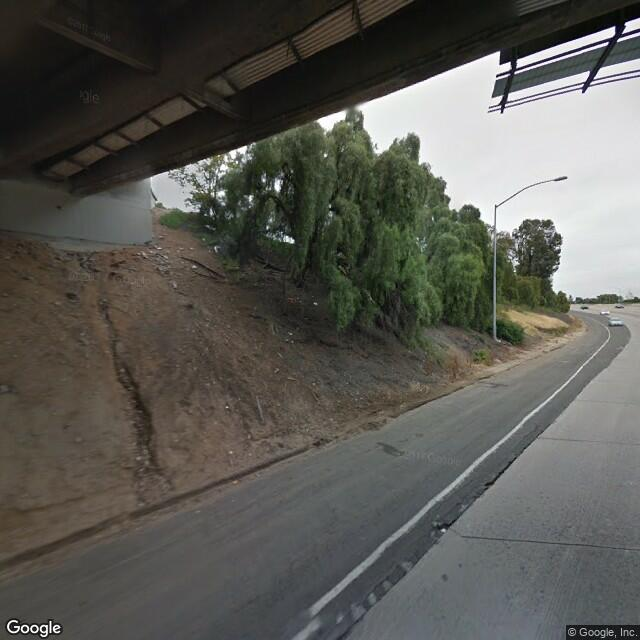litter: (150, 242, 169, 261), (210, 236, 216, 247), (307, 297, 312, 301)
